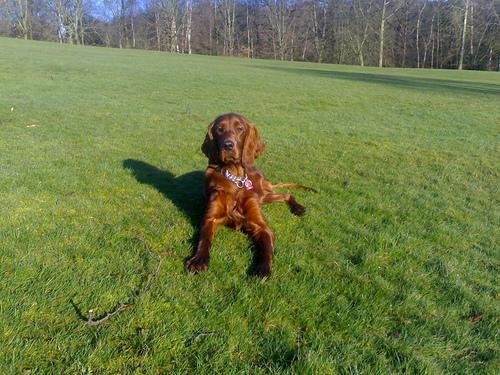Irish_setter: (183, 111, 321, 278)
